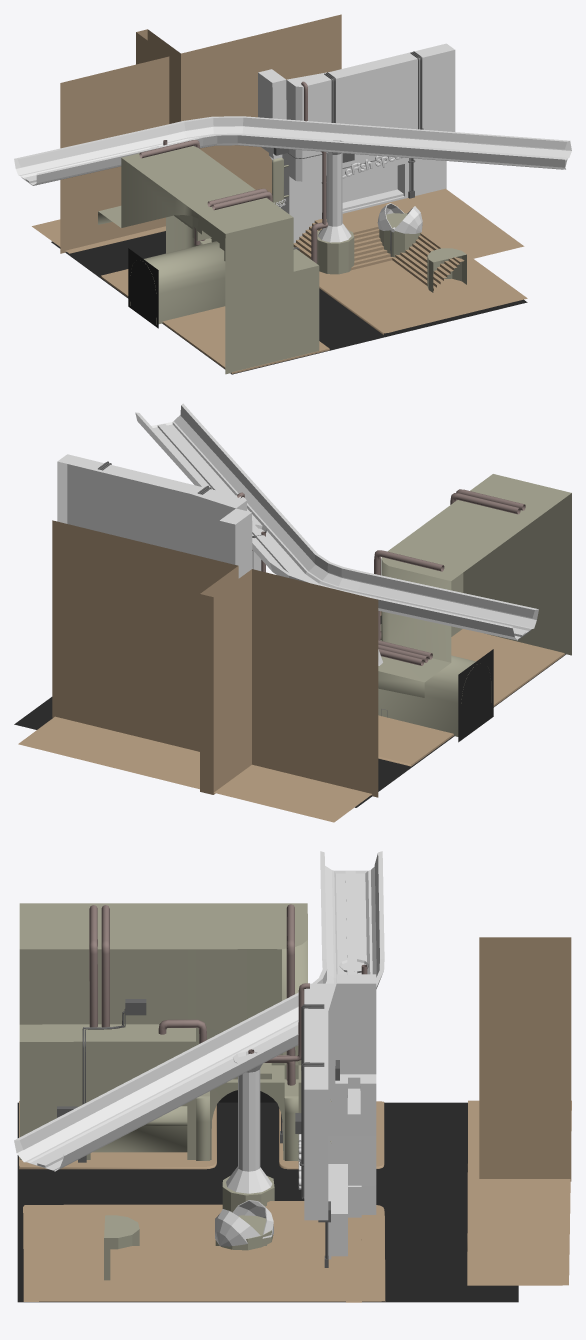
Rendered from street-AO.fbx.
3 views of the same model, one above another, from view 1: azimuth 30°, elevation 25°; view 2: azimuth 150°, elevation 25°; view 3: azimuth 270°, elevation 25° (orthographic). The views are drawn at different scales.
Visible parts, largest first — view 1: Cube.003, Cube.011, Cube.013, Cube.017, Cube.004, Cube.016, Plane, Cube, Plane.001, Cylinder.003, Cylinder.001, Cylinder.002 (+6 smaller); view 2: Cube.011, Cube.003, Cube.017, Cube.013, Cube.010, Cube, Plane.001, Cube.001, Plane, NurbsCurve.011, NurbsCurve.008; view 3: Cube.003, Plane, Cube.011, Cube.017, Cube.004, Cube.013, Cube.010, Cube.016, Cylinder.003, Cube, Cylinder.002, Sphere.001 (+7 smaller).
Part boxes in pixels (x1,y1,x2,y2): Cube.003: (98, 146, 319, 374); Cube.011: (60, 14, 341, 253); Cube.013: (258, 43, 455, 242); Cube.017: (14, 116, 571, 185); Cube.004: (319, 259, 527, 334); Cube.016: (293, 188, 524, 290); Plane: (51, 231, 527, 374); Cube: (162, 306, 329, 373); Plane.001: (128, 248, 158, 328); Cylinder.003: (318, 140, 351, 242); Cylinder.001: (317, 230, 354, 274); Cylinder.002: (427, 248, 466, 292); Cube.011: (52, 520, 378, 797); Cube.003: (378, 474, 571, 736); Cube.017: (135, 403, 538, 640); Cube.013: (57, 454, 252, 578); Cube.010: (18, 716, 371, 822); Cube: (451, 629, 564, 706); Plane.001: (458, 649, 493, 742); Cube.001: (378, 715, 453, 766); Plane: (14, 616, 565, 807); NurbsCurve.011: (374, 550, 444, 640); NurbsCurve.008: (450, 493, 520, 514); Cube.003: (19, 903, 307, 1160); Plane: (17, 1102, 518, 1302); Cube.011: (479, 937, 571, 1181); Cube.017: (14, 851, 384, 1171); Cube.004: (23, 1204, 385, 1302); Cube.013: (304, 974, 376, 1259); Cube.010: (467, 1100, 571, 1285); Cube.016: (110, 1201, 332, 1289); Cylinder.003: (226, 1051, 272, 1193); Cube: (19, 1101, 216, 1169); Cylinder.002: (104, 1215, 139, 1280); Sphere.001: (215, 1209, 260, 1246).
Bounding box in the file's own units: 3378 × 1290 × 2676.
